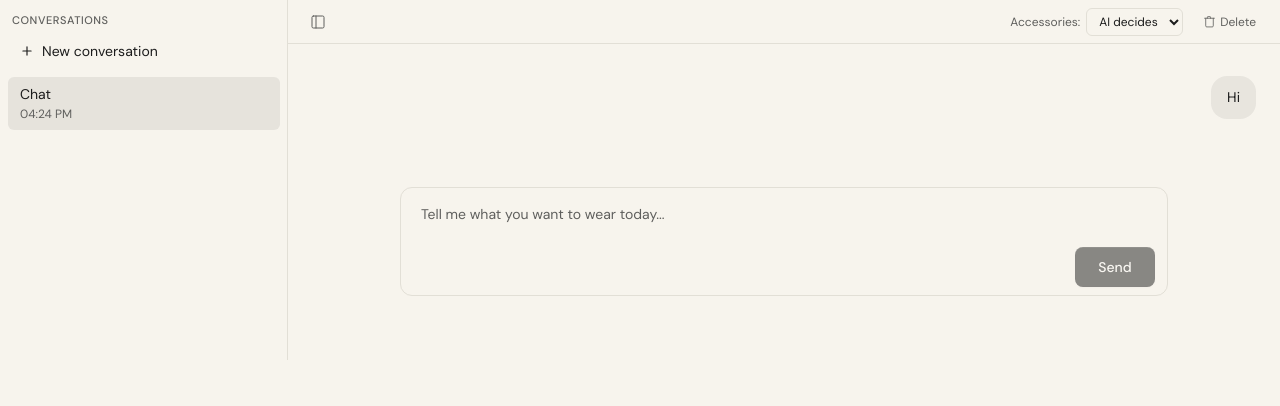
ChatPage › accessory mode sync › shows the empty-wardrobe message when switching to include with no accessories
Select "Include" in the dropdown labelled "Accessories:". click: (1135, 22)
box: [1086,8,1183,36]
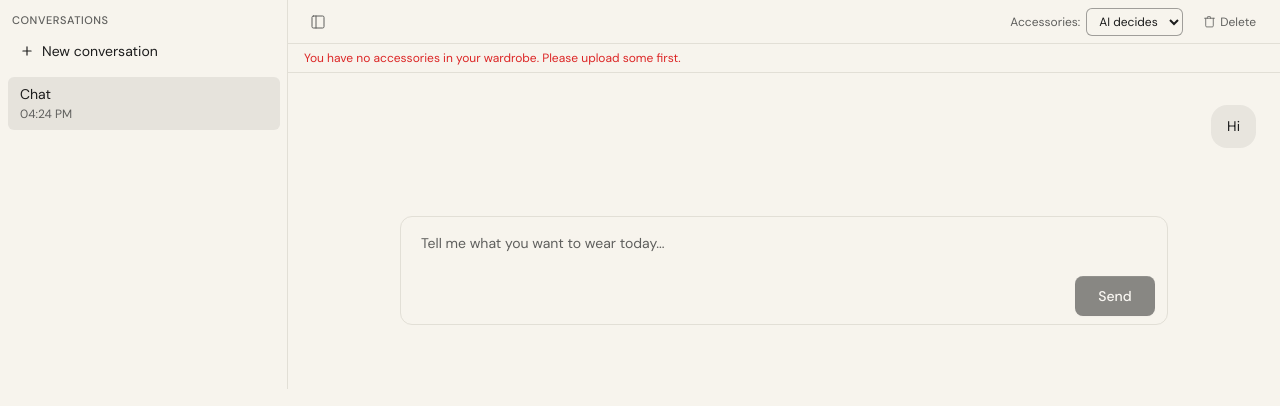
expect the text "no accessories in your wardrobe" is shown: met, box [304,50,681,66]
